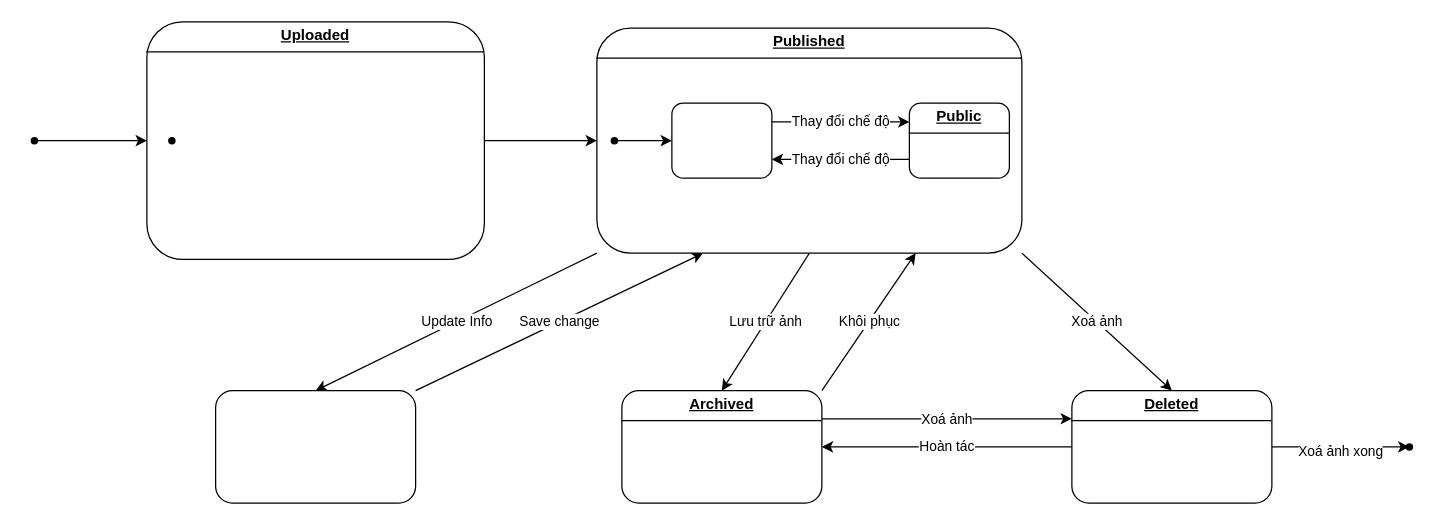
The diagram is 1444 pixels wide and 525 high, and some of its shapes have lost their labels. Each missing label, with the centre of its shape:
Modified: (315,446)
Private: (721,140)
